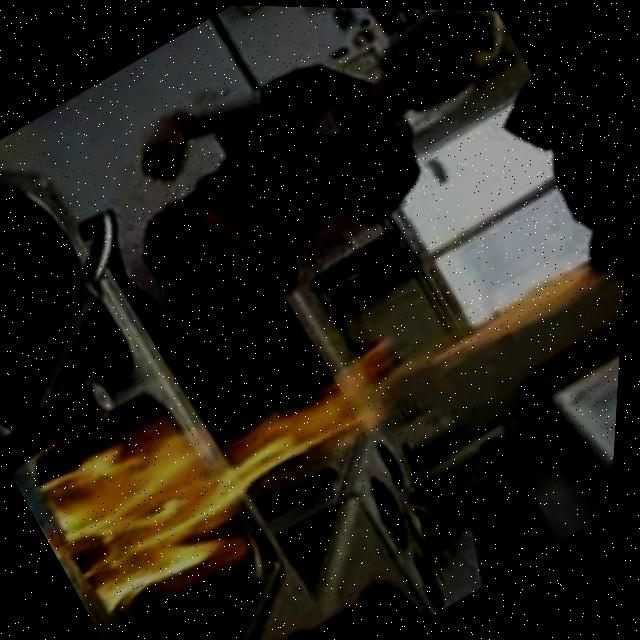Fire: (34, 291, 450, 627), (430, 239, 618, 378)
